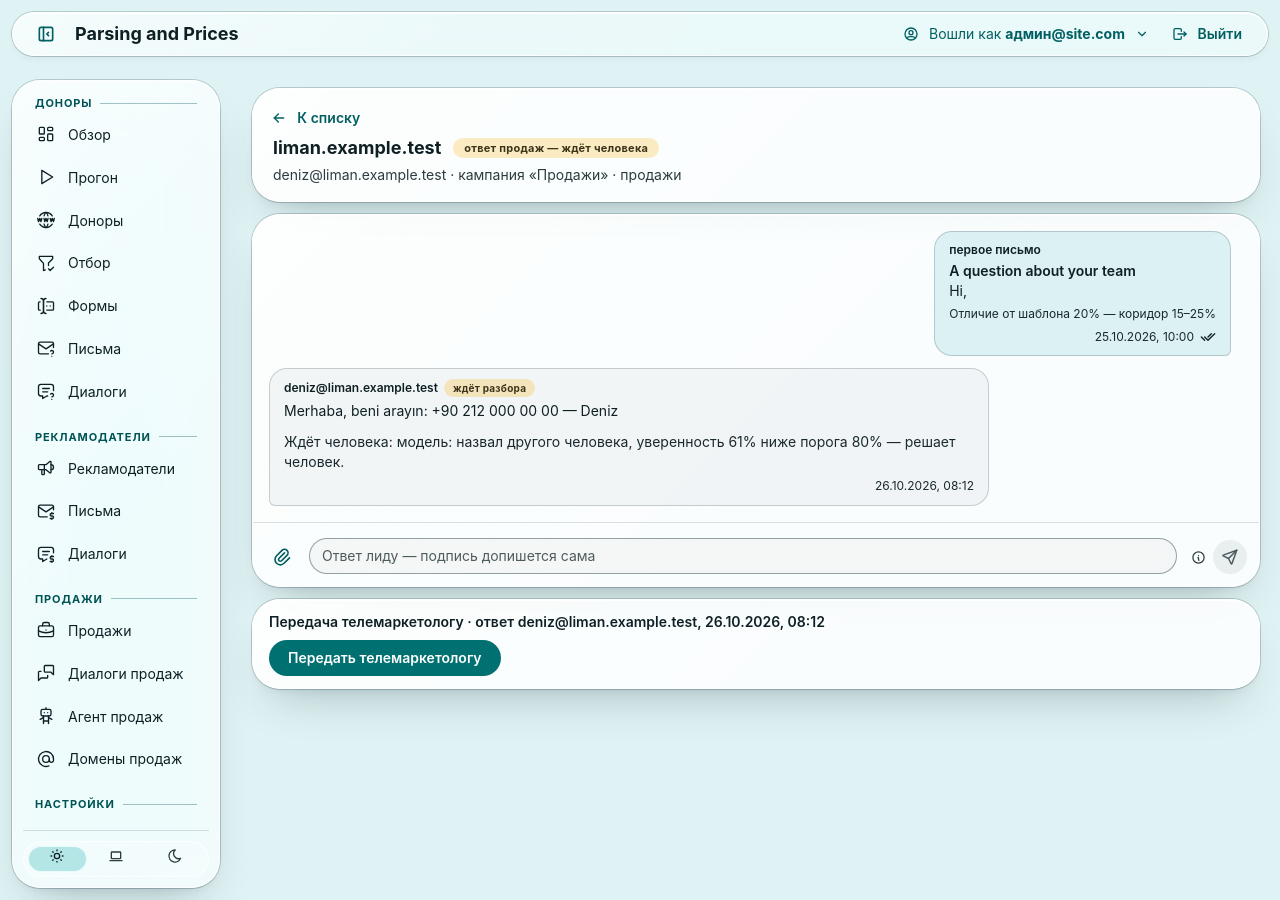
Test: «Передать телемаркетологу» у ответа продаж › отказ сервера — словами рядом с кнопкой и уведомлением; кнопка остаётся
Expected: the heading "liman.example.test" is shown, left=273, top=135, right=441, bottom=161
Click the button "Передать телемаркетологу" at [385, 658], box left=269, top=640, right=501, bottom=676
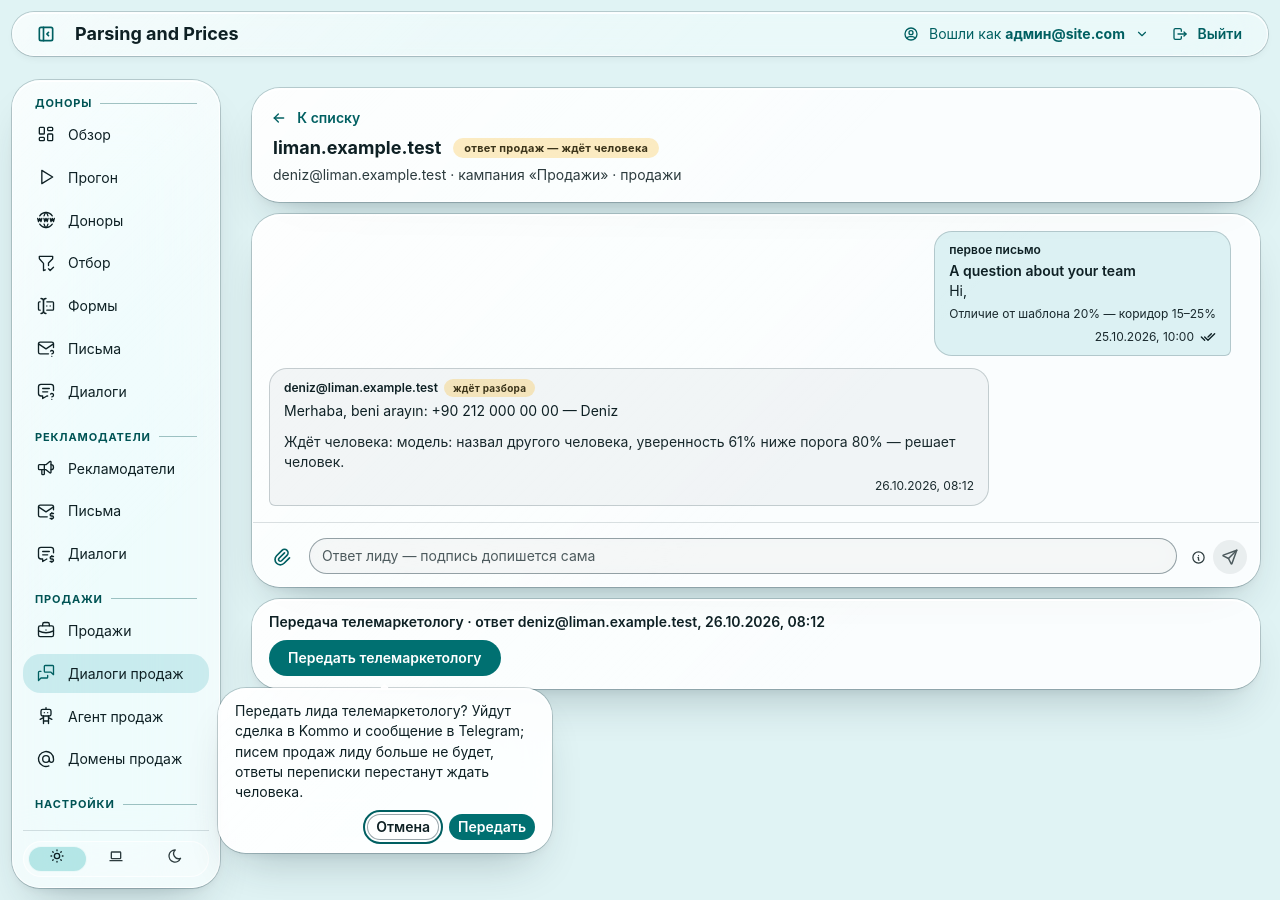
Click the button "Передать" at [492, 827], box left=449, top=814, right=535, bottom=840
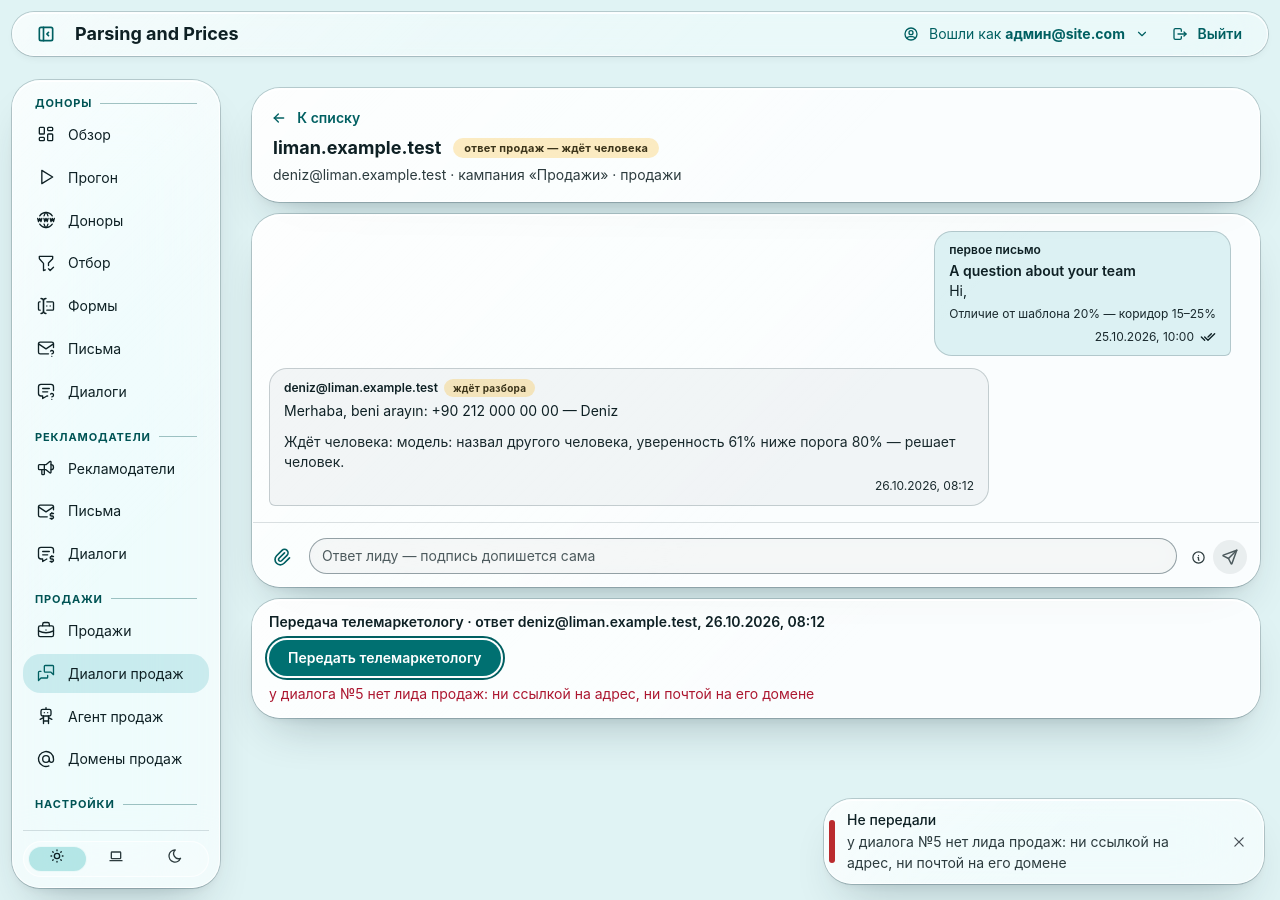
Expected: the button "Передать телемаркетологу" is enabled, left=269, top=640, right=501, bottom=676
Result: the text "у диалога №5 нет лида продаж: ни ссылкой на адрес, ни почтой на его домене" is shown 2 times at left=269, top=684, right=814, bottom=705; left=847, top=832, right=1215, bottom=873
Result: the text "у диалога №5 нет лида продаж: ни ссылкой на адрес, ни почтой на его домене" below "Передача телемаркетологу · ответ" is shown at left=269, top=685, right=814, bottom=702
